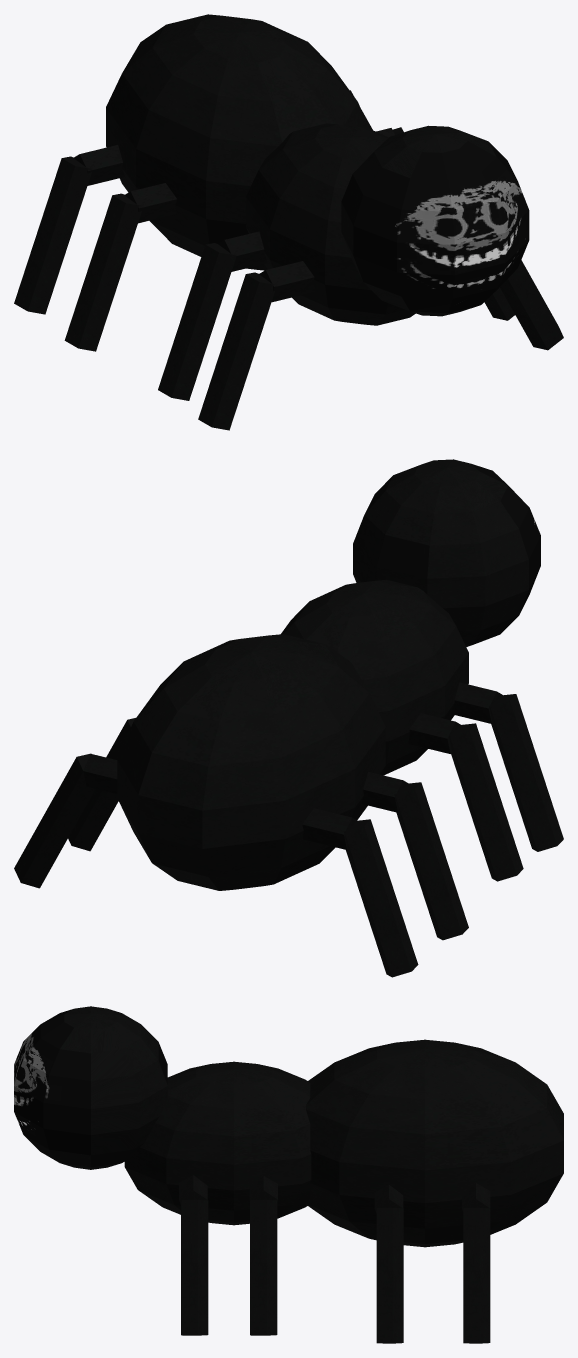
The model's file is MonsterModel.fbx.
3 renders of one model, top to bottom at view 1: azimuth 30°, elevation 25°; view 2: azimuth 150°, elevation 25°; view 3: azimuth 270°, elevation 25°, orthographic. The views are drawn at different scales.
Visible parts, largest first — view 1: back, head, mid, pCylinder11, pCylinder12, pCylinder9, pCylinder10, pCylinder5, pCylinder1, pCylinder3, pCylinder4, pCylinder2 (+1 smaller); view 2: back, head, mid, pCylinder11, pCylinder12, pCylinder10, pCylinder9, pCylinder8, pCylinder4, pCylinder7, pCylinder2, pCylinder1 (+1 smaller); view 3: back, mid, head, pCylinder5, pCylinder6, pCylinder7, pCylinder8, pCylinder1, pCylinder4, pCylinder3, pCylinder2.
Part boxes in pixels (x1,y1,x2,y2): back: (106,14,369,270); head: (341,125,529,316); mid: (246,123,415,325); pCylinder11: (158,243,236,400); pCylinder12: (198,272,274,430); pCylinder9: (14,156,92,314); pCylinder10: (64,193,141,351); pCylinder5: (500,260,563,350); pCylinder1: (259,261,315,302); pCylinder3: (124,128,394,223); pCylinder4: (73,145,124,185); pCylinder2: (218,231,267,271); back: (117,634,385,890); head: (353,459,540,646); mid: (281,579,468,775); pCylinder11: (449,723,523,881); pCylinder12: (489,694,563,851); pCylinder10: (394,782,468,940); pCylinder9: (343,819,418,977); pCylinder8: (14,753,95,888); pCylinder4: (83,754,358,849); pCylinder7: (68,718,135,851); pCylinder2: (408,713,462,753); pCylinder1: (451,682,503,723); back: (306,1039,563,1247); mid: (124,1061,311,1225); head: (14,1006,167,1169); pCylinder5: (181,1200,208,1335); pCylinder6: (250,1200,277,1335); pCylinder7: (376,1208,403,1343); pCylinder8: (463,1208,490,1343); pCylinder1: (179,1175,207,1204); pCylinder4: (462,1183,490,1211); pCylinder3: (374,1184,403,1213); pCylinder2: (249,1176,277,1201).
Size of the model in its own units: 4.79 by 3.45 by 6.7.
